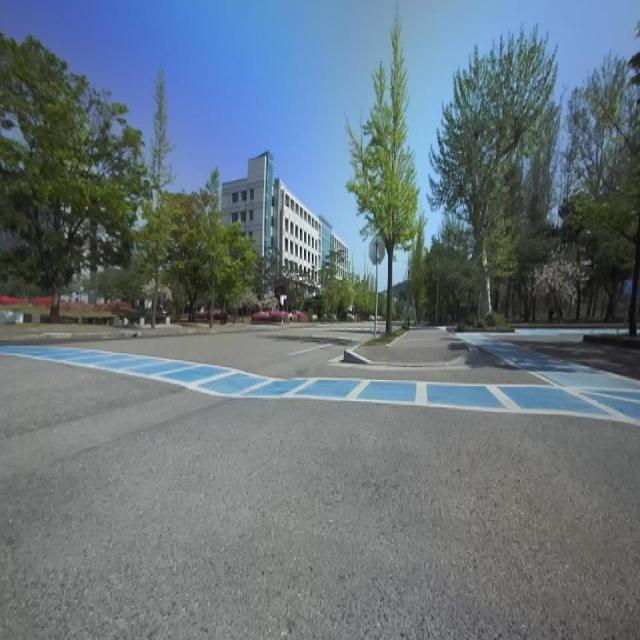sidewalk: (358, 328, 469, 362)
